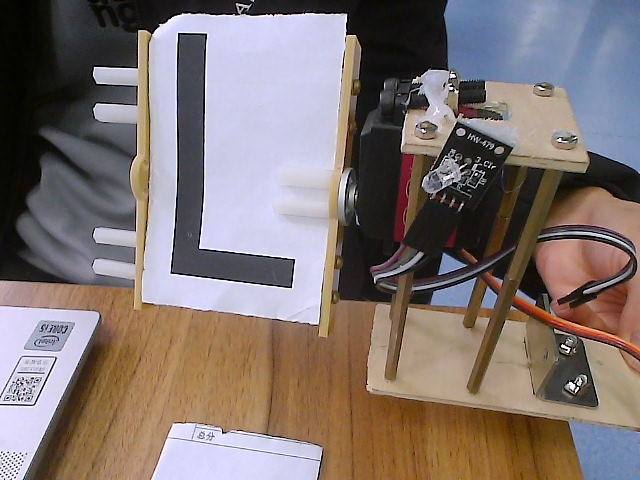L: (72, 10, 417, 368)
